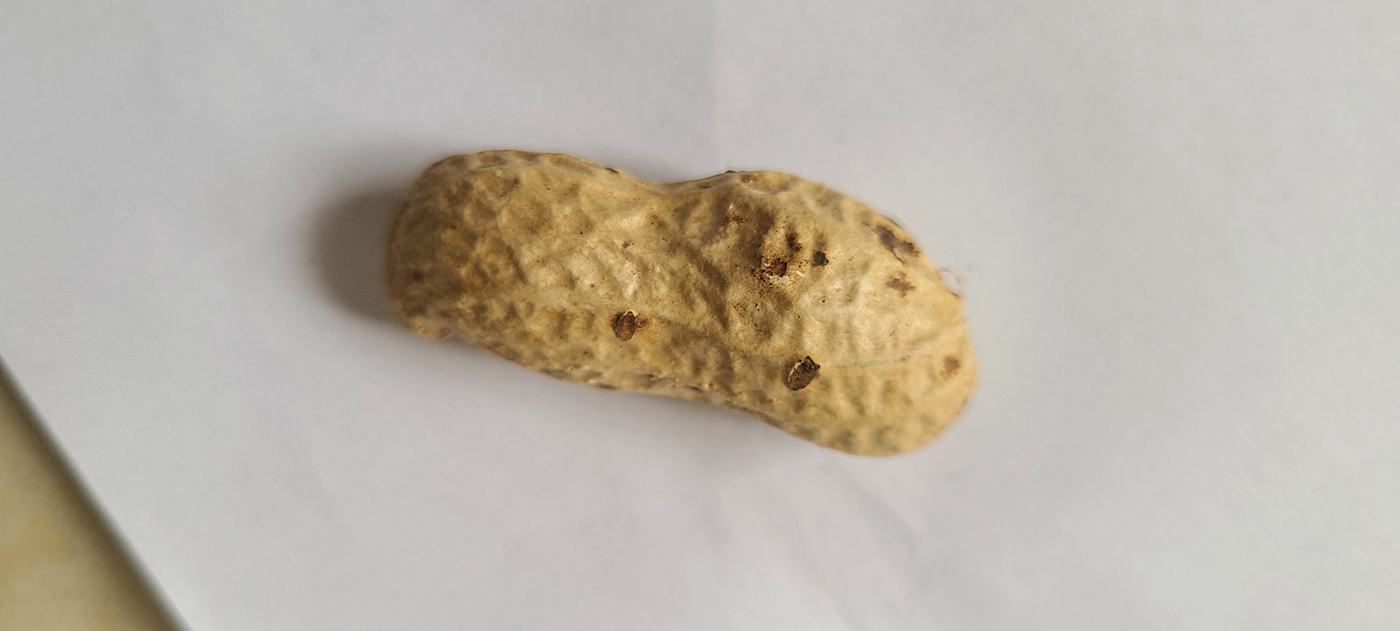h: (384, 146, 976, 459)
